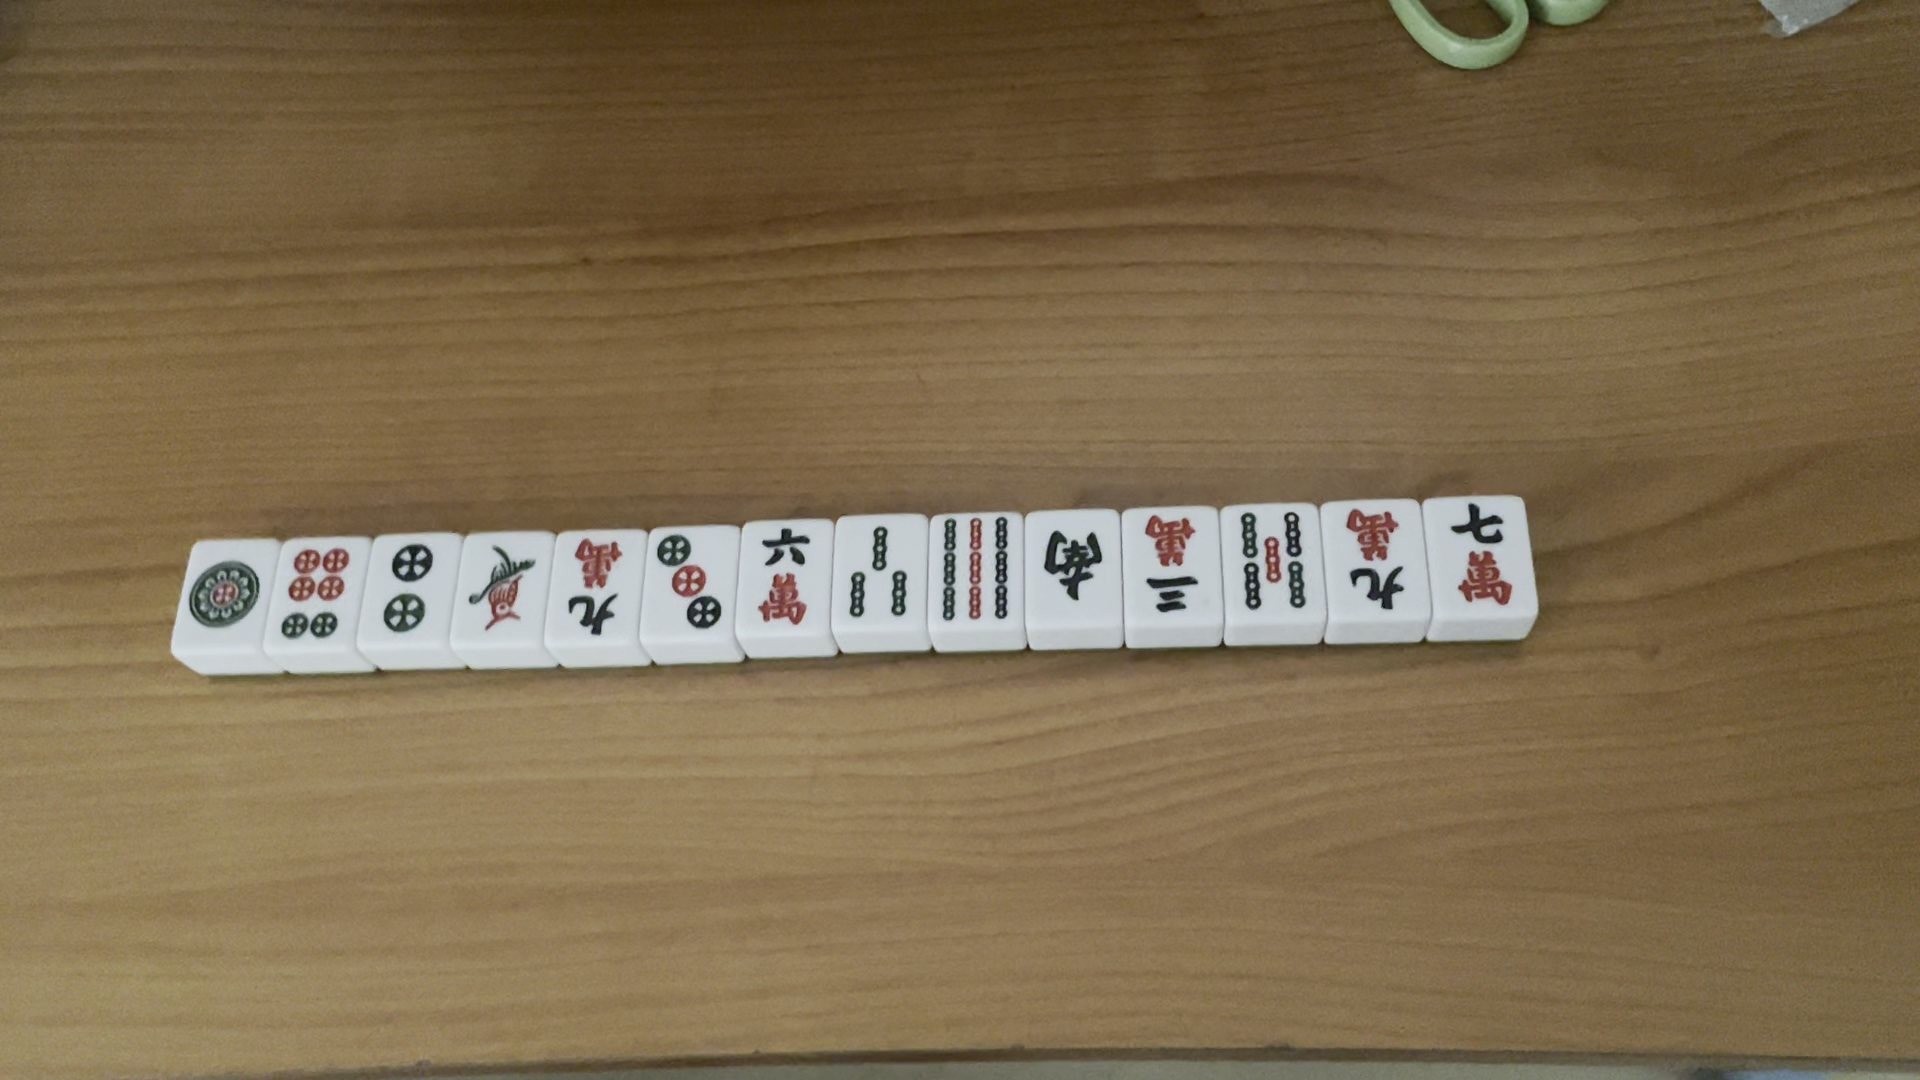b-1: (455, 538, 542, 634)
b-3: (847, 520, 918, 628)
b-5: (1232, 506, 1315, 617)
b-9: (935, 512, 1011, 625)
c-3: (1131, 512, 1207, 621)
c-6: (752, 522, 823, 624)
c-7: (1447, 493, 1519, 611)
c-9: (1338, 502, 1414, 615), (558, 538, 632, 634)
d-1: (187, 553, 258, 634)
d-2: (371, 541, 436, 637)
d-3: (651, 533, 723, 633)
d-6: (277, 543, 348, 644)
honors-south: (1039, 520, 1109, 605)
